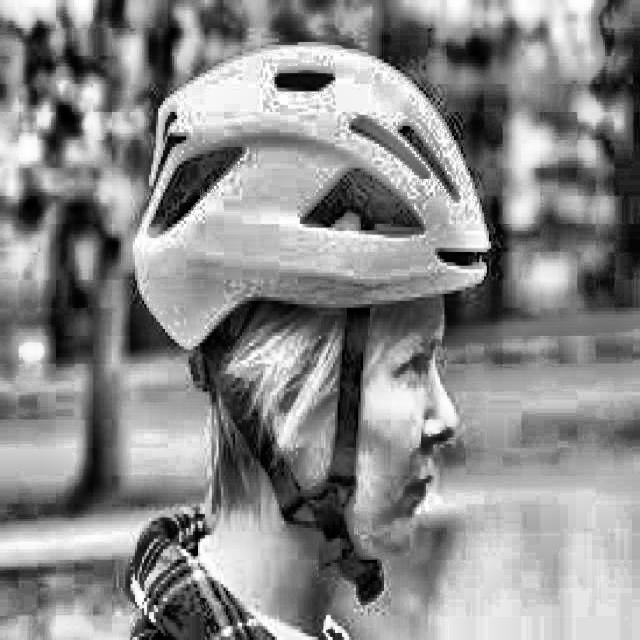Helmet: (115, 21, 517, 588)
